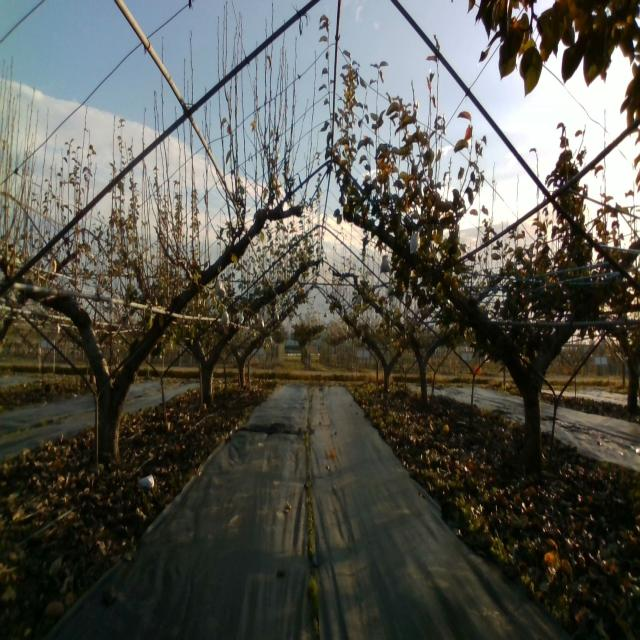pearbags: (409, 232, 421, 254)
